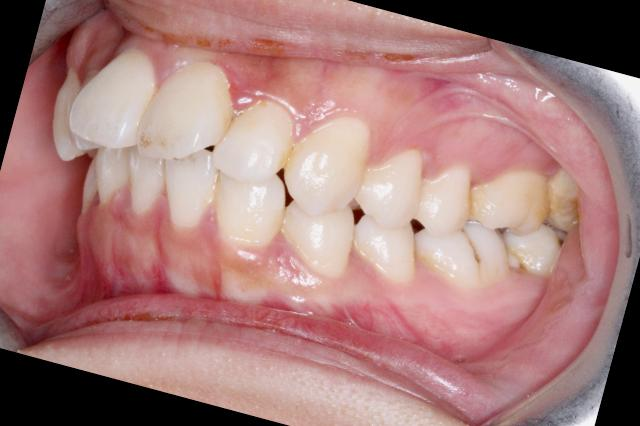canine class III 1/4: (200, 79, 394, 292)
molar class III 1/2: (406, 141, 557, 308)
